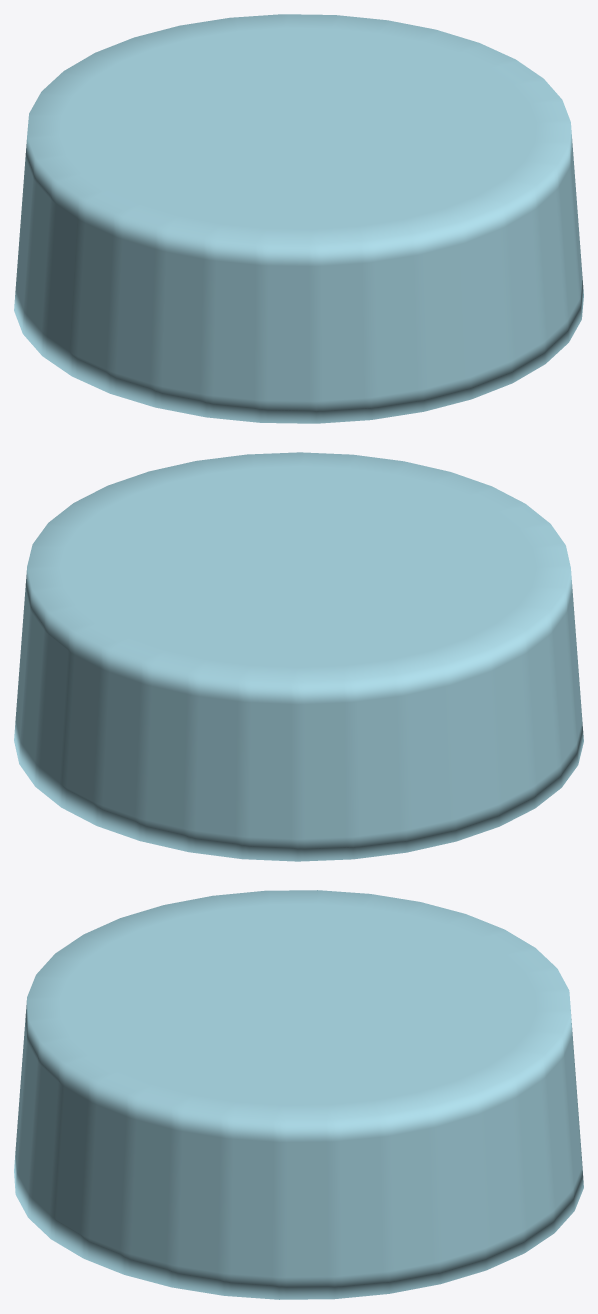
Rendered from BSN_Water_WaterBarrel.gltf.
3 views of the same model, one above another, from view 1: azimuth 30°, elevation 25°; view 2: azimuth 150°, elevation 25°; view 3: azimuth 270°, elevation 25° (orthographic).
Parts seen in each view (by area): view 1: WaterBarrel; view 2: WaterBarrel; view 3: WaterBarrel.
Boxes of the visible parts, x1=… form: WaterBarrel: x1=14, y1=14, x2=583, y2=423; WaterBarrel: x1=14, y1=452, x2=583, y2=861; WaterBarrel: x1=14, y1=890, x2=583, y2=1299.
Size of the model in its own units: 4.12 by 1.39 by 4.12.
